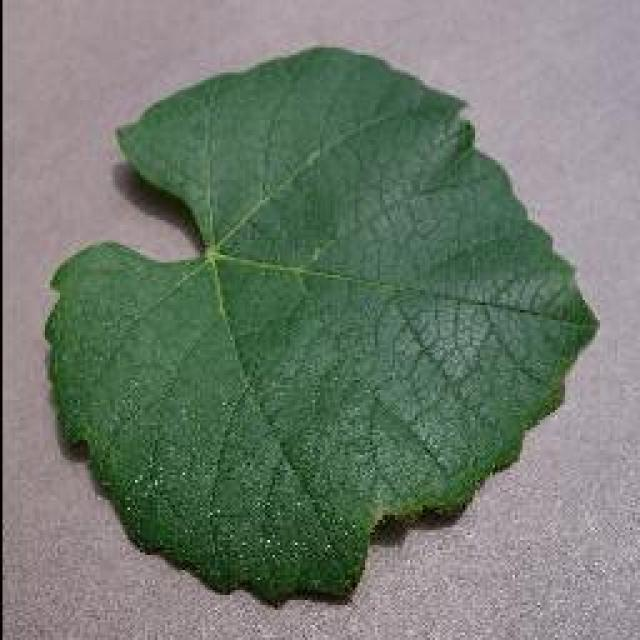Grape___healthy: (48, 48, 592, 600)
